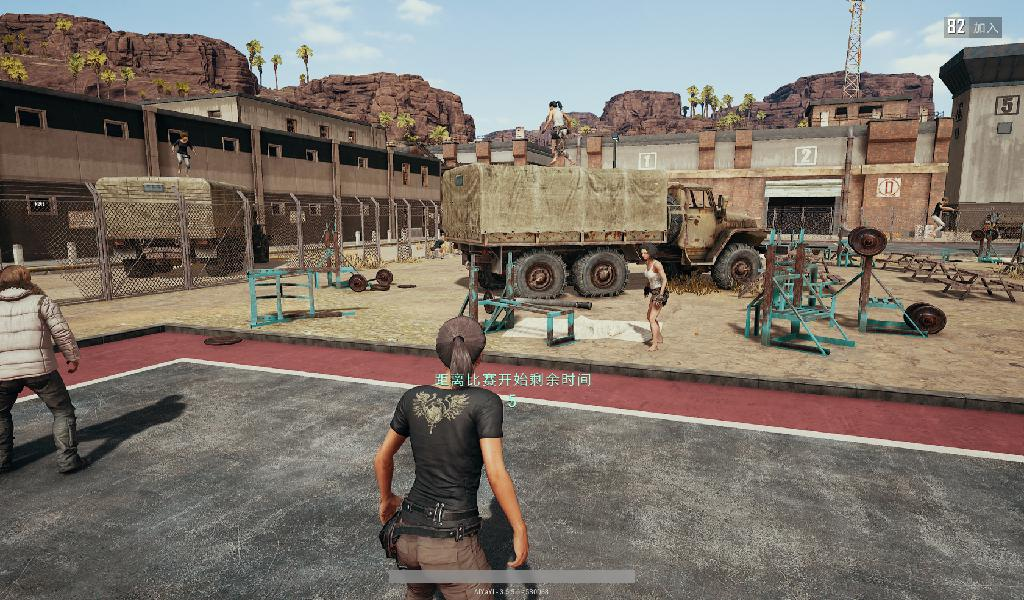Target Person: (369, 315, 535, 600), (1, 256, 82, 475), (636, 241, 670, 354), (541, 100, 575, 171), (169, 129, 198, 184), (928, 193, 957, 243)
